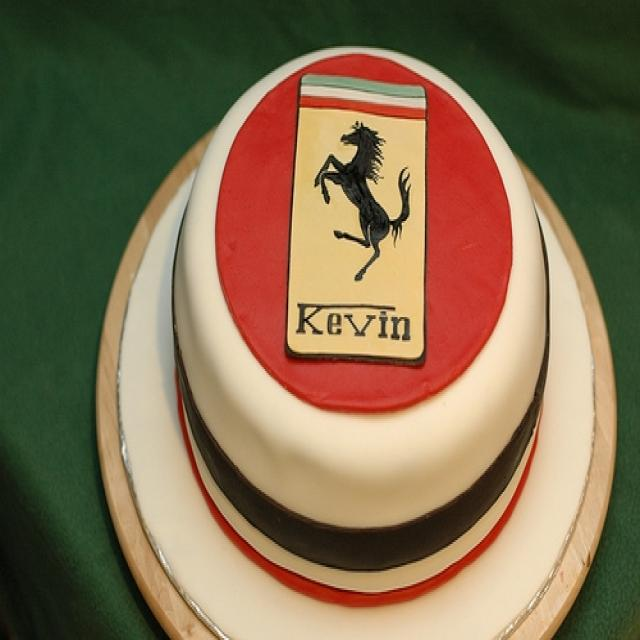ferrari: (291, 74, 428, 305)
